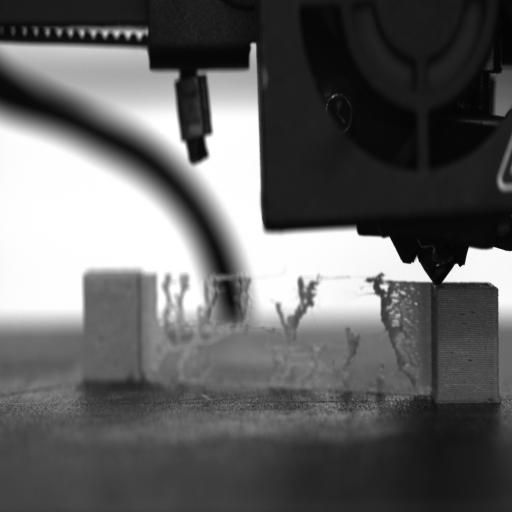spaghetti_and_stringing: (264, 274, 342, 390), (364, 273, 428, 395), (201, 272, 251, 328), (140, 272, 161, 382), (160, 271, 192, 341)
